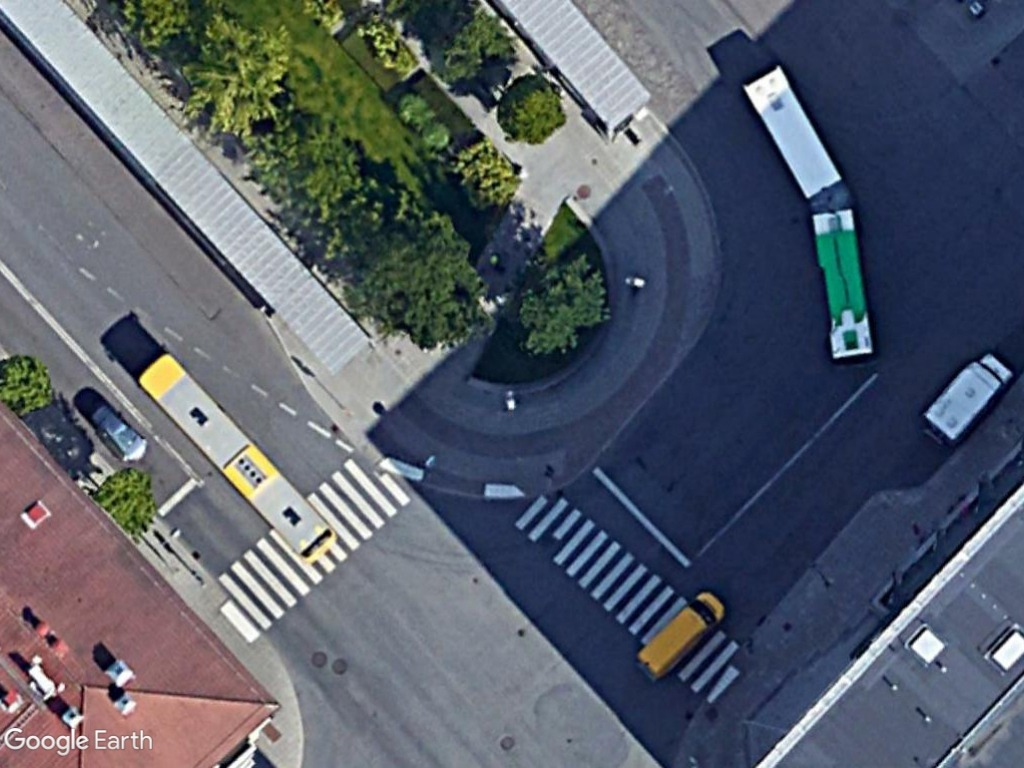bus: (134, 346, 342, 566), (805, 204, 879, 363)
car: (87, 400, 148, 465)
truck: (920, 353, 1015, 449)
van: (633, 589, 727, 683)
